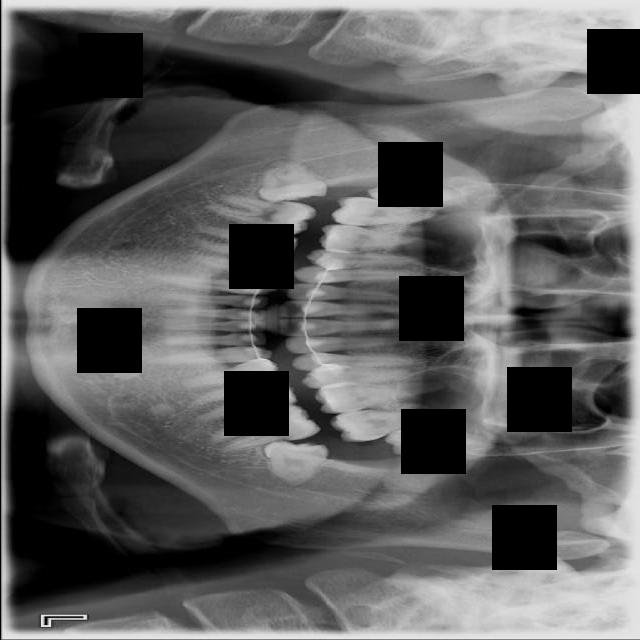3M ESPE Implant: (365, 173, 470, 215)
52: (242, 366, 298, 419), (311, 377, 371, 418), (248, 226, 299, 271)
73: (58, 612, 68, 616)
BioHorizons Implant: (327, 401, 460, 445)
BioLife Implant: (382, 420, 493, 463)
Biomet 3i Implant: (261, 439, 330, 489)
Blue Sky Bio Implant: (204, 398, 321, 456)
Caries: (329, 192, 462, 228)
Implant: (202, 191, 318, 239)
Keystone Dental Implant: (254, 155, 329, 206)
